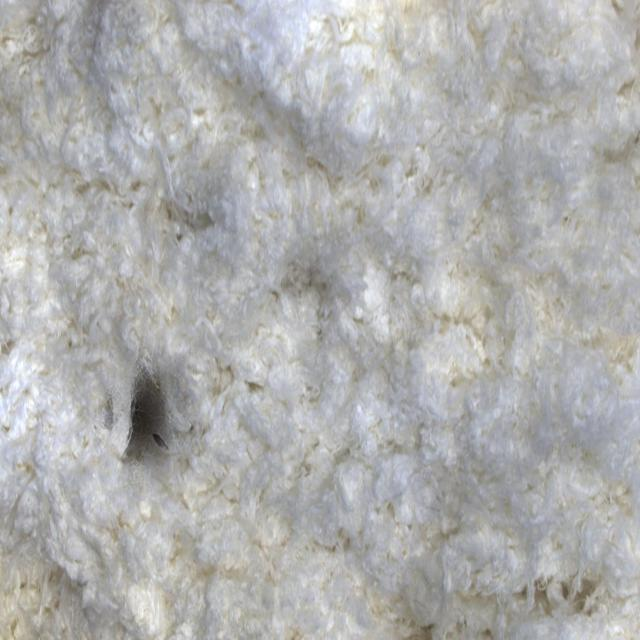dust: (77, 319, 230, 510)
